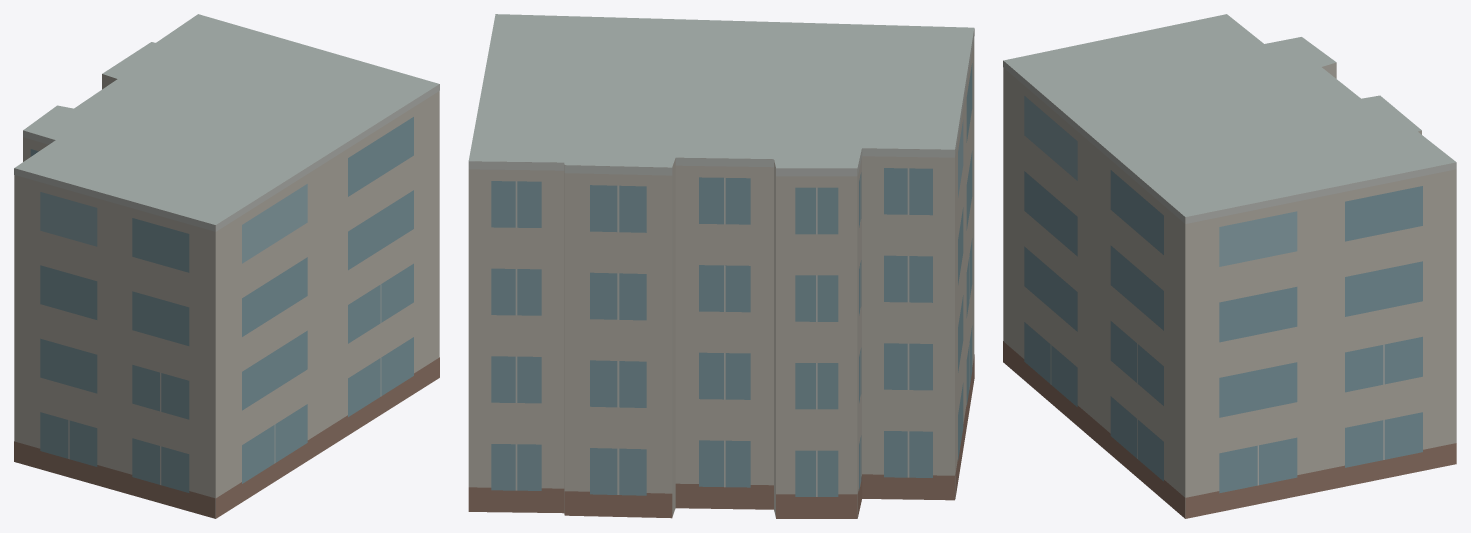
Rendered from survey-upis-32943337.glb.
3 renders of one model, left to right at view 1: azimuth 30°, elevation 25°; view 2: azimuth 150°, elevation 25°; view 3: azimuth 270°, elevation 25°, orthographic. The views are drawn at different scales.
Parts seen in each view (by area): view 1: survey-upis-32943337.tmp; view 2: survey-upis-32943337.tmp; view 3: survey-upis-32943337.tmp.
Boxes of the visible parts, left/top/right/bottom form: survey-upis-32943337.tmp: left=14, top=14, right=439, bottom=518; survey-upis-32943337.tmp: left=468, top=14, right=974, bottom=518; survey-upis-32943337.tmp: left=1003, top=14, right=1456, bottom=518.
Bounding box in the file's own units: 15.32 × 10.6 × 14.45.
